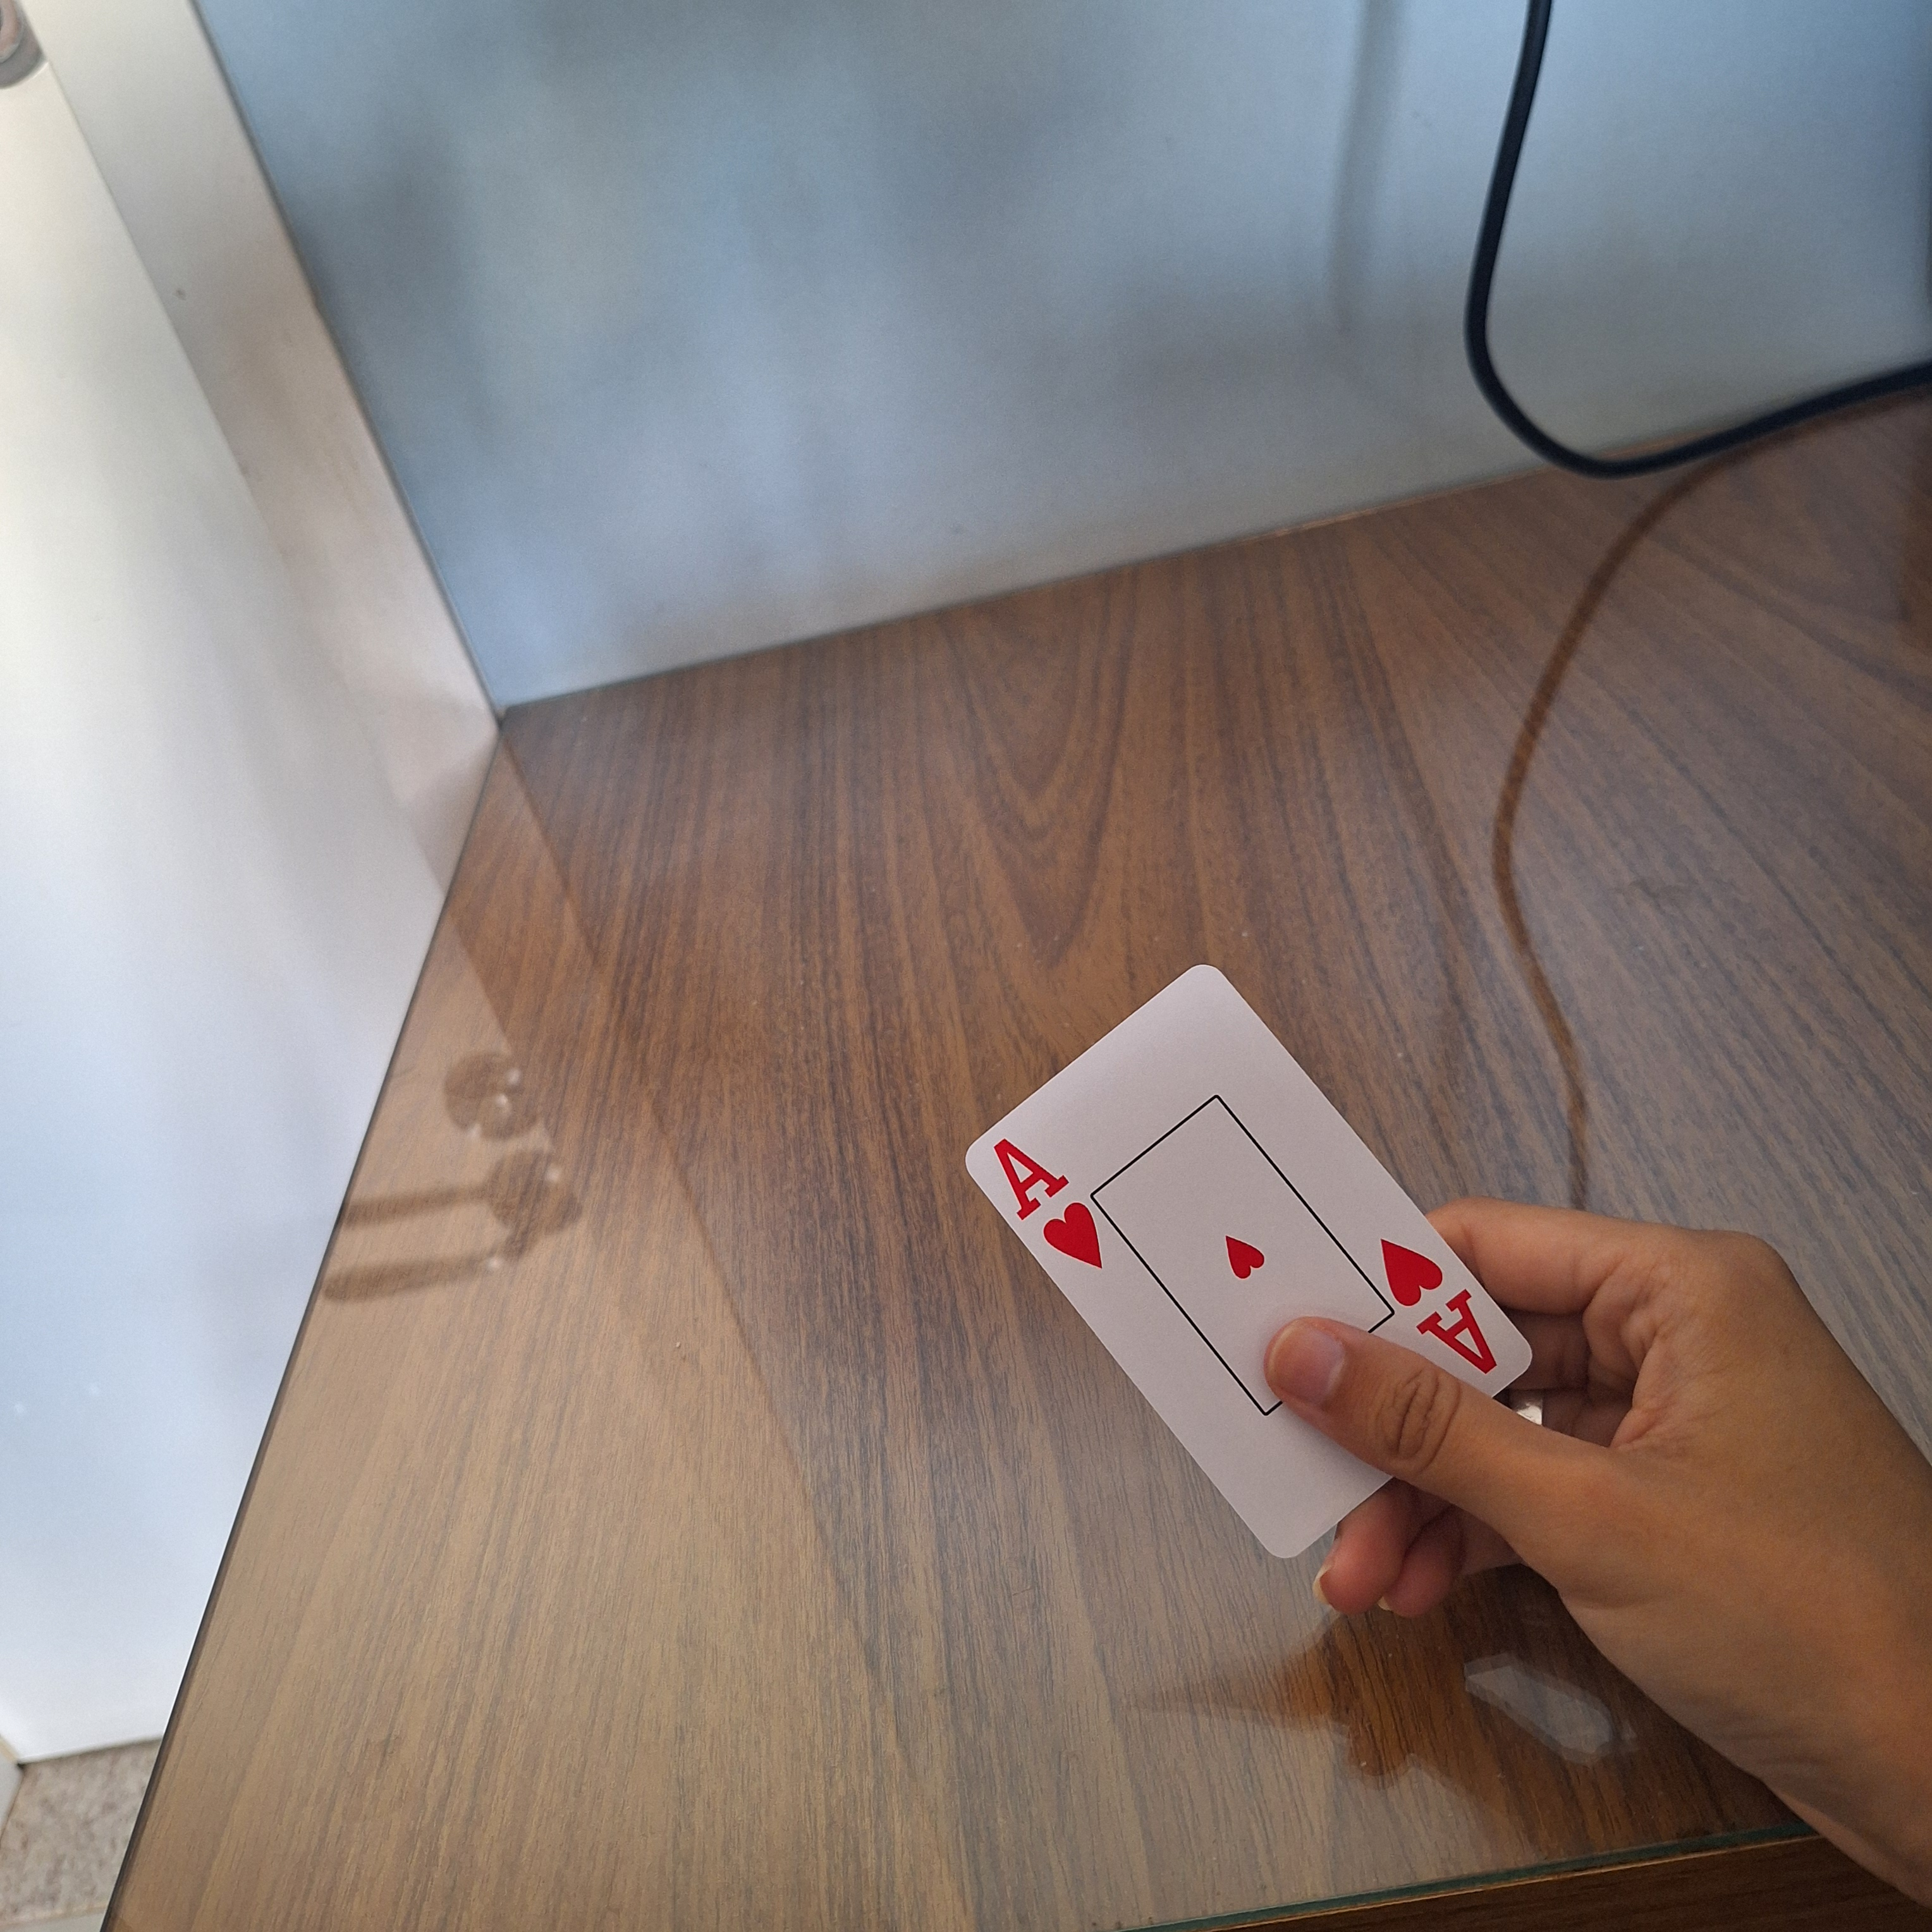AC: (1371, 1231, 1507, 1378), (982, 1127, 1111, 1276)
